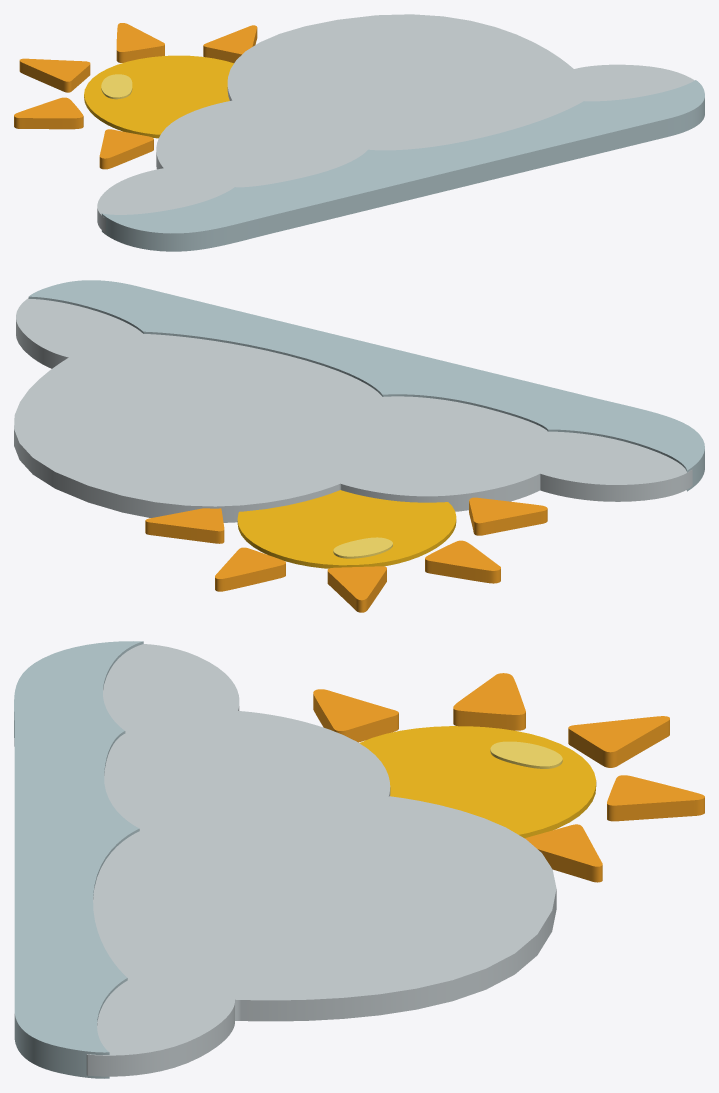
File: emoji_u1f325.glb
The picture shows the model from 3 angles, top to bottom: view 1: azimuth 30°, elevation 25°; view 2: azimuth 150°, elevation 25°; view 3: azimuth 270°, elevation 25°; orthographic projection. The views are drawn at different scales.
Visible parts, largest first — view 1: emoji_u1f325; view 2: emoji_u1f325; view 3: emoji_u1f325.
Boxes of the visible parts, x1,y1,x2,y2 form: emoji_u1f325: (14,14,704,251); emoji_u1f325: (14,280,704,612); emoji_u1f325: (14,641,704,1078).
Size of the model in its own units: 0.0336 by 0.001 by 0.0238.
